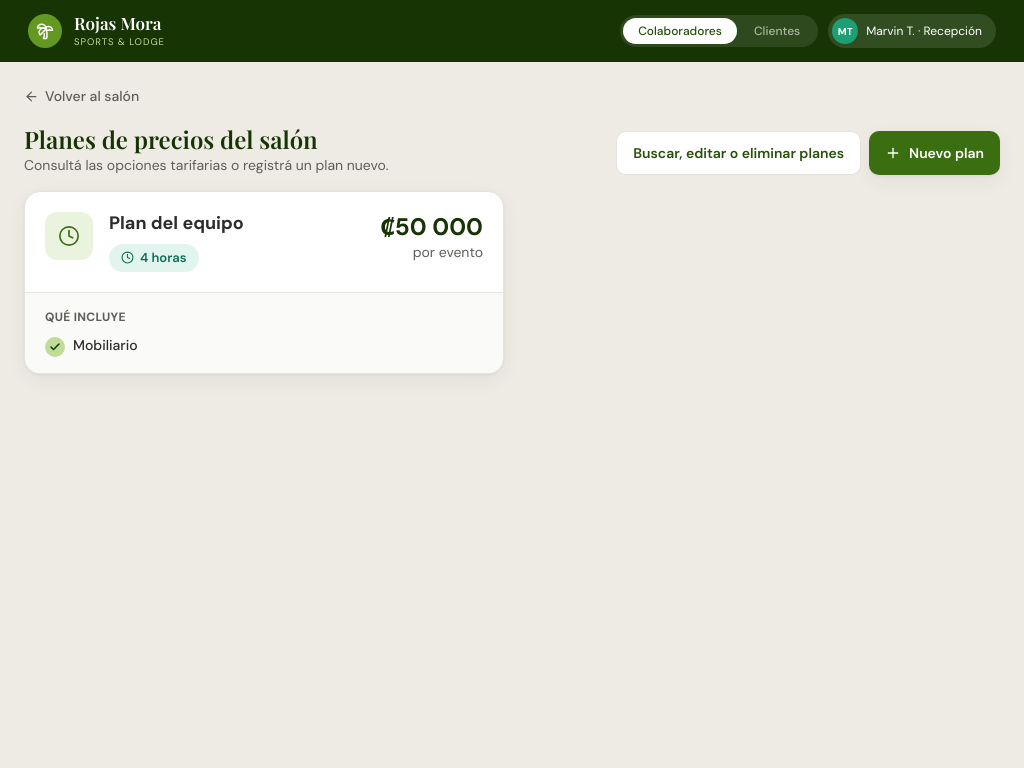
Test: conserva catálogo y registro y permite ir a administrar y regresar usando las rutas reales
The width and height of the screenshot is (1024, 768).
Check: the heading "Plan del equipo" is shown, box [109,212,244,234]
Click the button "Nuevo plan" at (935, 152), box [869,130,1000,174]
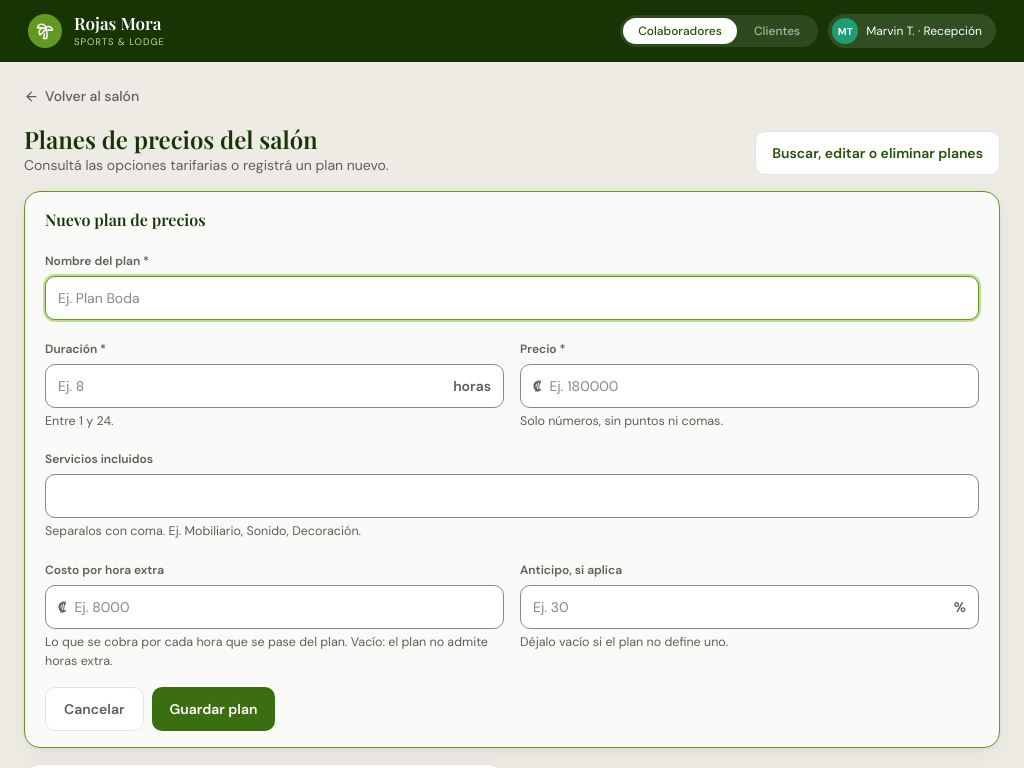
Check: the field labelled "Nombre del plan *" is shown, box [58,288,966,308]
Click the link "Buscar, editar o eliminar planes" at (878, 152), box [755,130,1000,174]
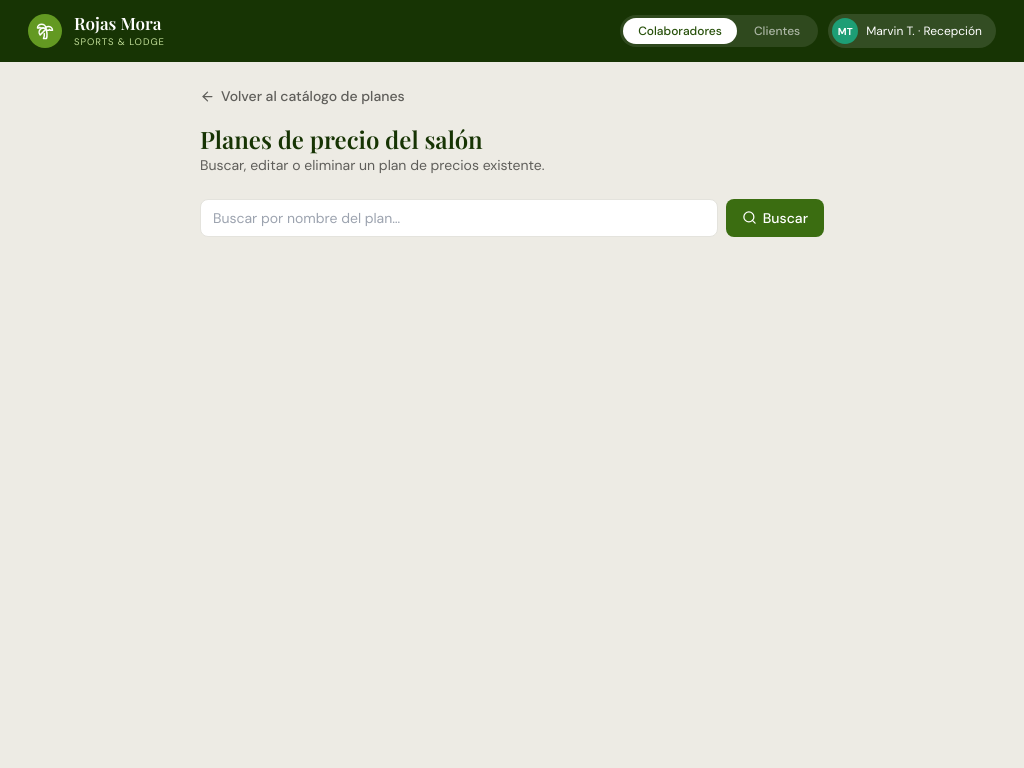
Type "equipo" into the field with placeholder "Buscar por nombre del plan…" at (459, 218), box [200,198,718,236]
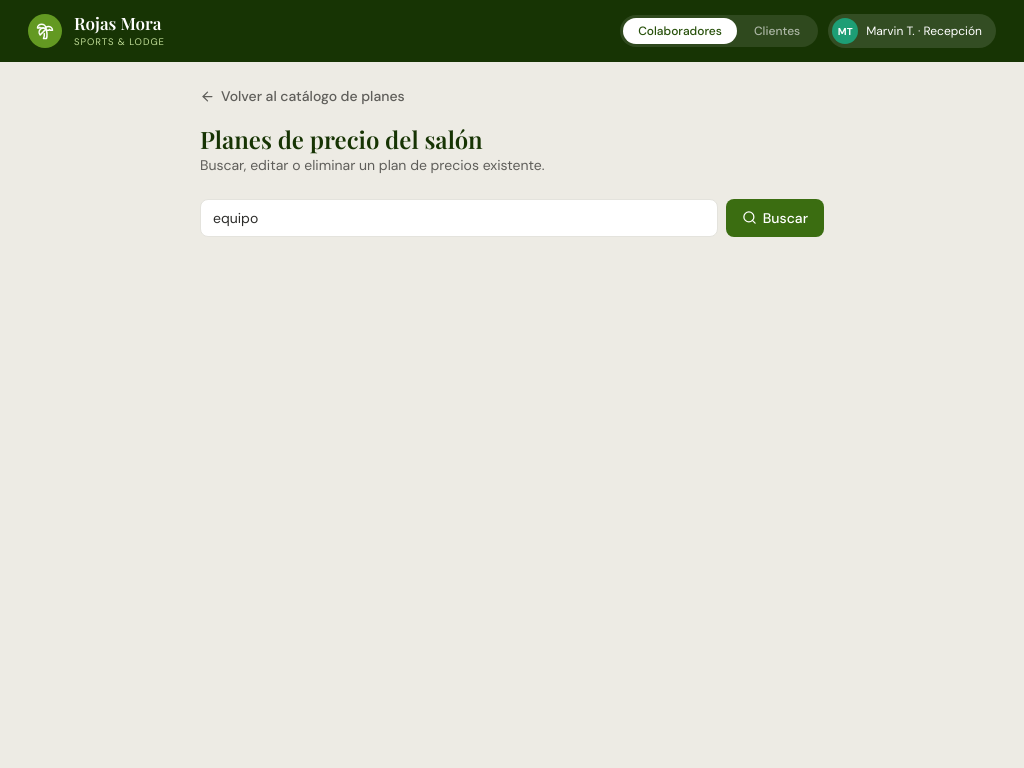
Click the button "Buscar" at (775, 218), box [726,198,824,236]
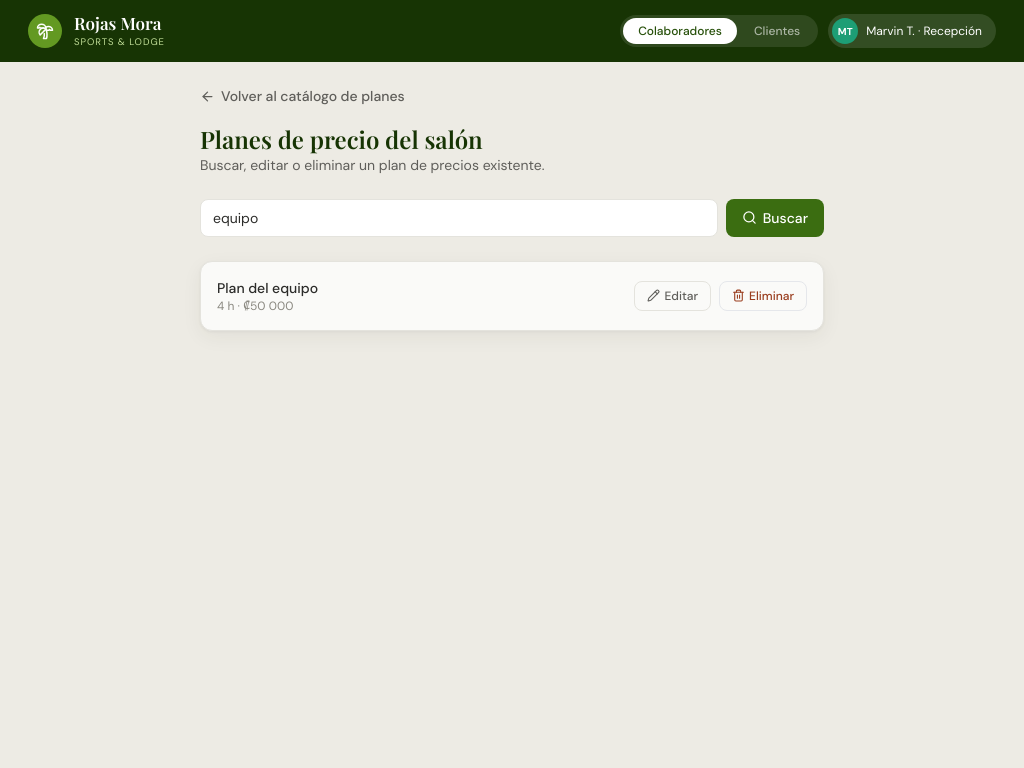
Check: the button "Editar" is shown, box [634,280,711,310]
Check: the button "Eliminar" is shown, box [719,280,807,310]
Click the link "Volver al catálogo de planes" at (302, 96), box [200,86,405,106]
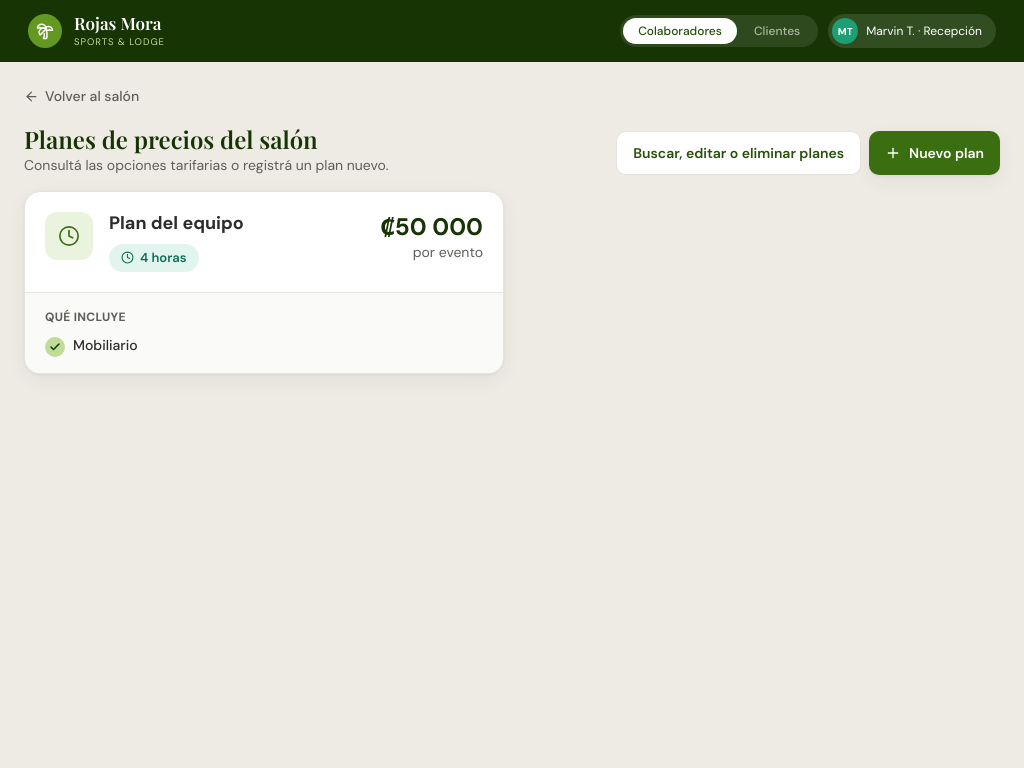
Check: the heading "Plan del equipo" is shown, box [109,212,244,234]
Check: the button "Nuevo plan" is shown, box [869,130,1000,174]
